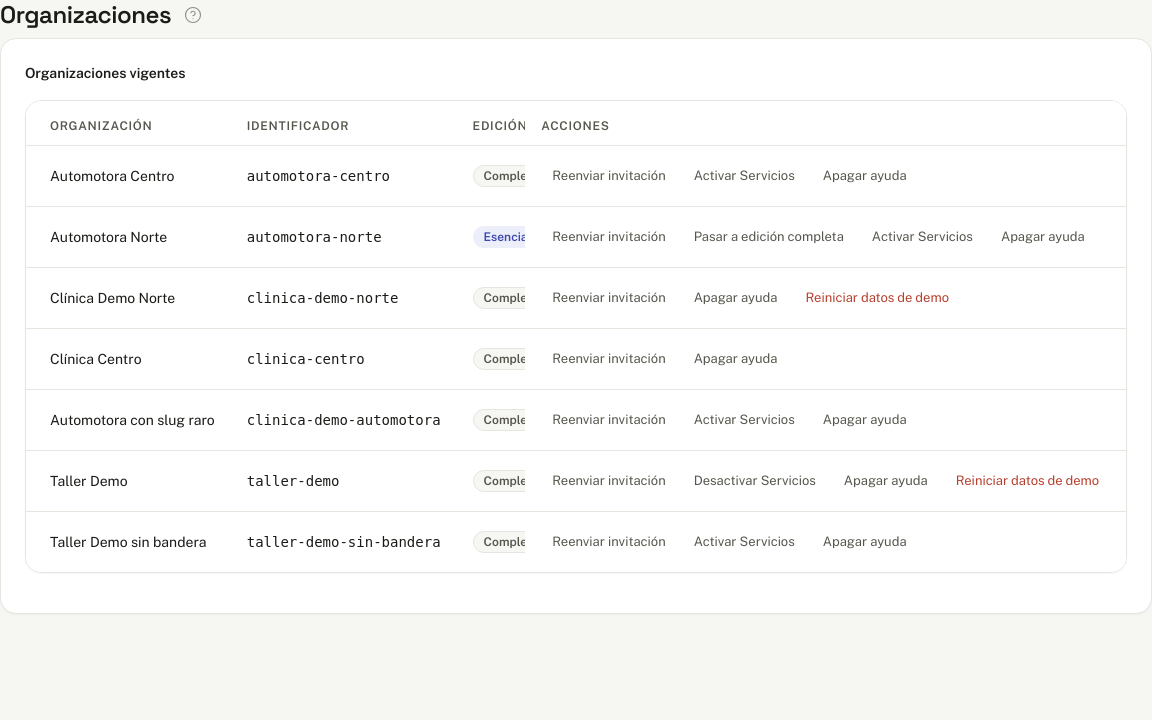
Scenario: OrganizationsPage: reiniciar datos de demo › en el Taller Demo: confirmación del taller y resumen de lo cargado
Click the 2nd button "Reiniciar datos de demo": (1027, 481) [944,465,1110,497]
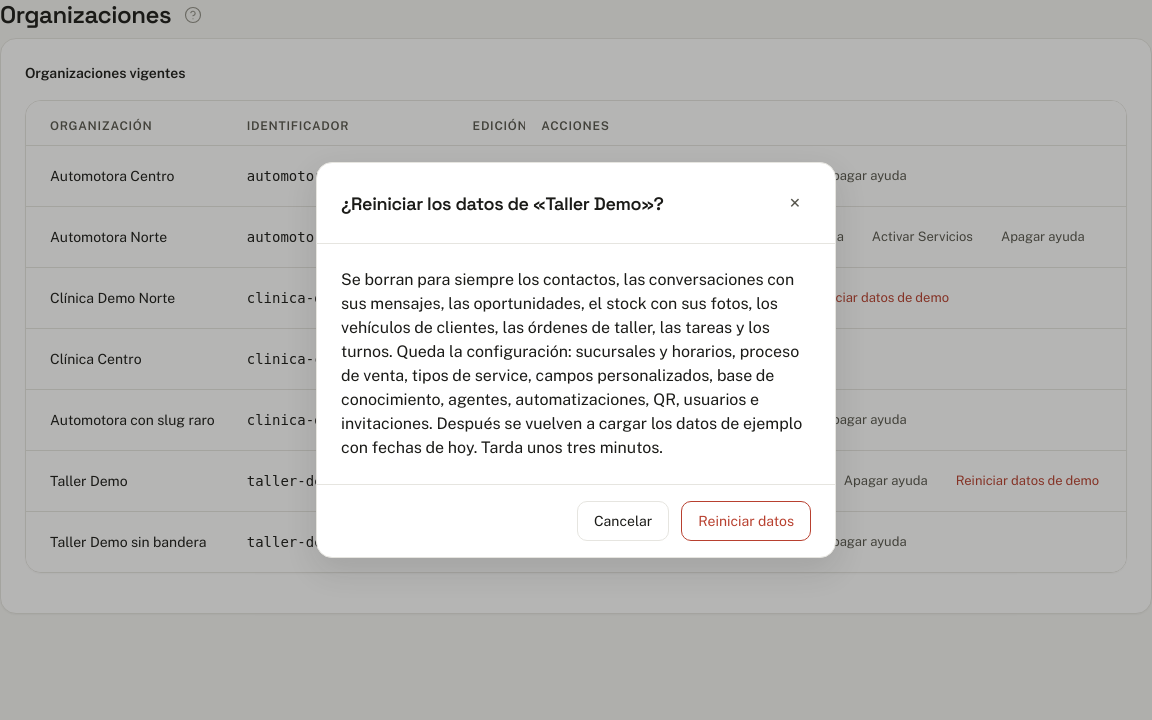
Result: the dialog shows "órdenes de taller" at [341,270,802,457]
Click the button "Reiniciar datos": (746, 521) [681,501,811,541]
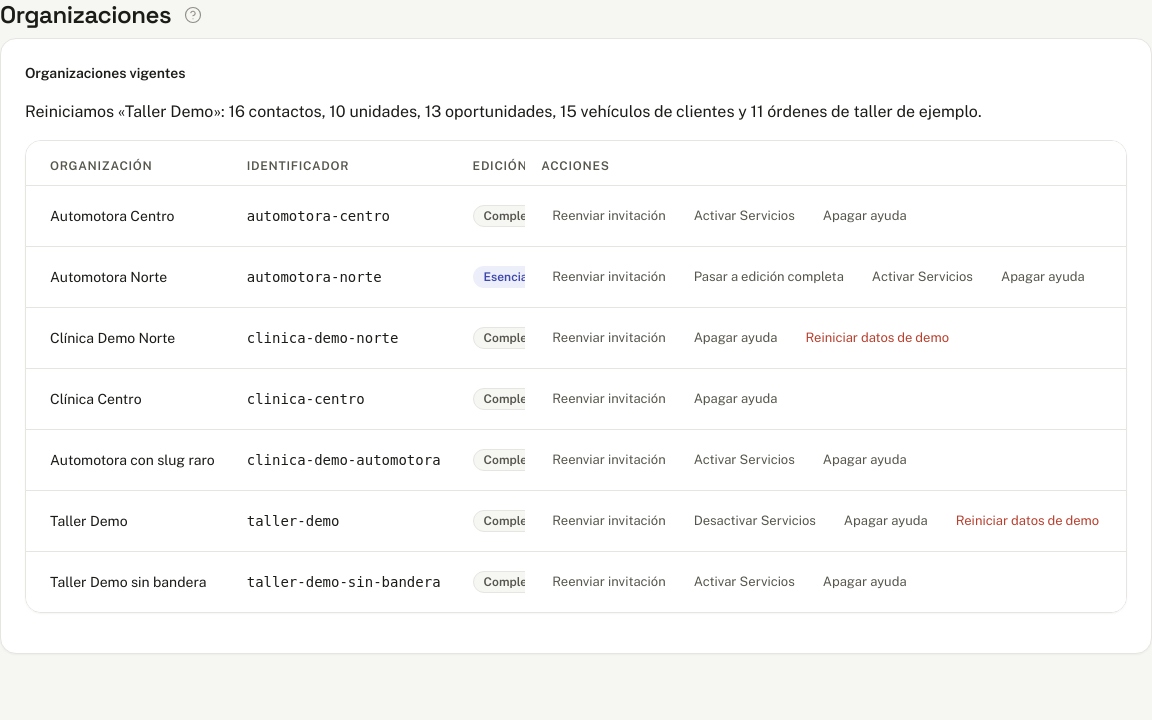
Result: the message shows "Reiniciamos «Taller Demo»: 16 contactos, 10 unidades, 13 oportunidades, 15 vehículos de clientes y 11 órdenes de taller de ejemplo." at [25,102,982,121]
